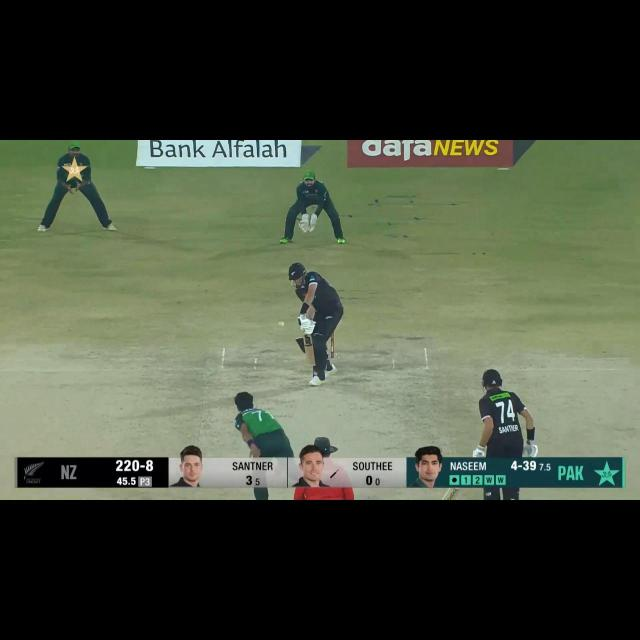bat: (303, 334, 316, 367), (444, 486, 464, 500)
toe: (305, 358, 315, 366), (444, 497, 454, 500)
